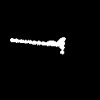half_double_crochet: (10, 38, 65, 53)
